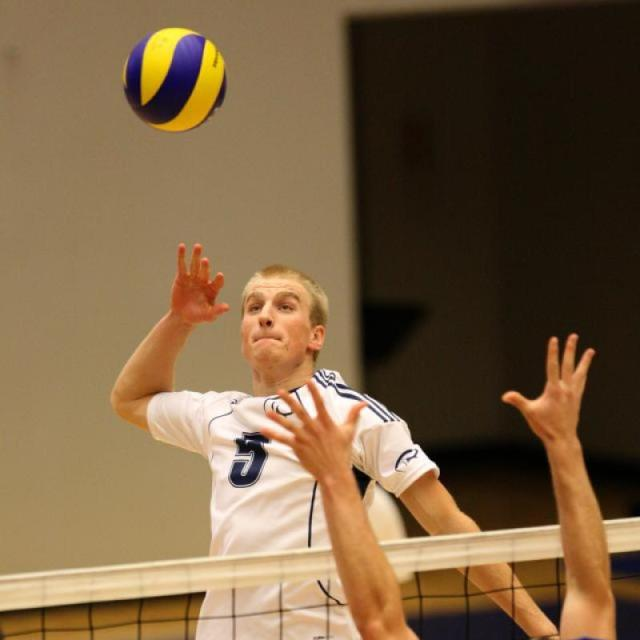volleyball: (120, 24, 227, 134)
